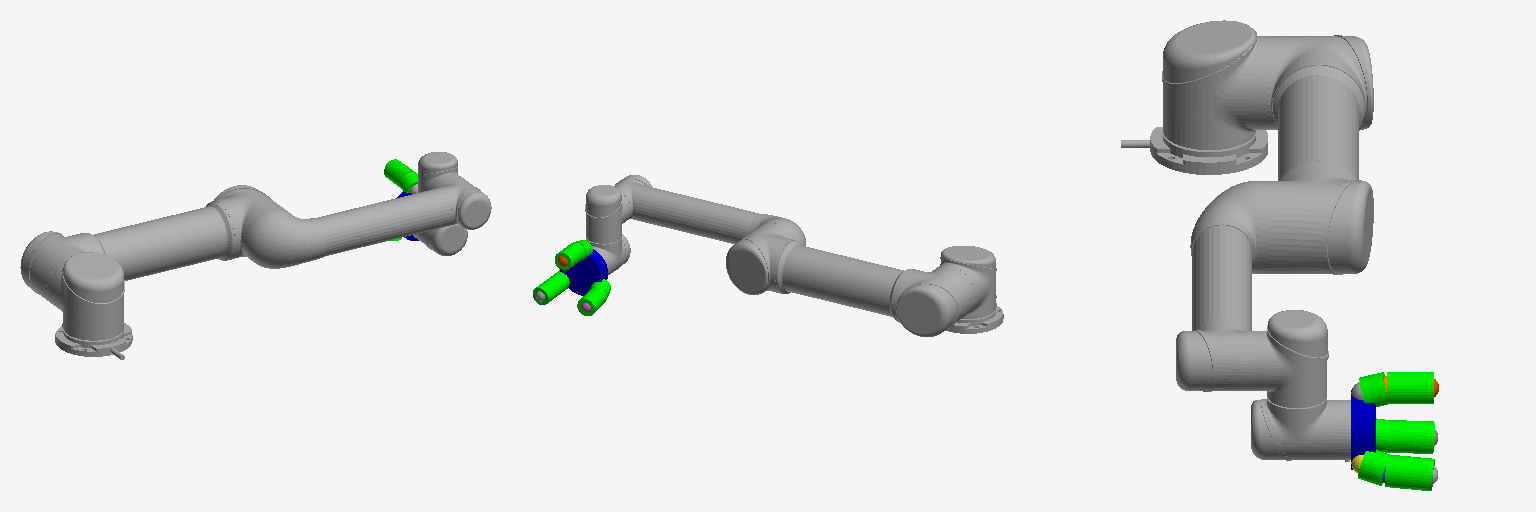
The robot description file, URDF, robot "ur5_3f2j":
<?xml version='1.0' encoding='UTF-8'?>
<robot name="ur5_3f2j">
  <link name="base_link">
    <inertial>
      <origin xyz="0.0 0.0 0.0" rpy="0.0 0.0 0.0"/>
      <mass value="4.0"/>
      <inertia ixx="0.00443333156" ixy="0.0" ixz="0.0" iyy="0.00443333156" iyz="0.0" izz="0.0072"/>
    </inertial>
    <visual>
      <geometry>
        <mesh filename="meshes/ur5/visual/base.obj"/>
      </geometry>
      <material name="LightGrey"/>
      <origin xyz="0.0 0.0 0.0" rpy="0.0 -0.0 0.0"/>
    </visual>
    <collision>
      <geometry>
        <mesh filename="meshes/ur5/collision/base.stl"/>
      </geometry>
      <origin xyz="0.0 0.0 0.0" rpy="0.0 -0.0 0.0"/>
    </collision>
  </link>
  <link name="shoulder_link">
    <inertial>
      <origin xyz="0.0 0.0 0.0" rpy="0.0 0.0 0.0"/>
      <mass value="3.7"/>
      <inertia ixx="0.010267495893" ixy="0.0" ixz="0.0" iyy="0.010267495893" iyz="0.0" izz="0.00666"/>
    </inertial>
    <visual>
      <geometry>
        <mesh filename="meshes/ur5/visual/shoulder.obj"/>
      </geometry>
      <material name="LightGrey"/>
      <origin xyz="0.0 0.0 0.0" rpy="0.0 -0.0 0.0"/>
    </visual>
    <collision>
      <geometry>
        <mesh filename="meshes/ur5/collision/shoulder.stl"/>
      </geometry>
      <origin xyz="0.0 0.0 0.0" rpy="0.0 -0.0 0.0"/>
    </collision>
  </link>
  <link name="upper_arm_link">
    <inertial>
      <origin xyz="0.0 0.0 0.28" rpy="0.0 0.0 0.0"/>
      <mass value="8.393"/>
      <inertia ixx="0.22689067591" ixy="0.0" ixz="0.0" iyy="0.22689067591" iyz="0.0" izz="0.0151074"/>
    </inertial>
    <visual>
      <geometry>
        <mesh filename="meshes/ur5/visual/upperarm.obj"/>
      </geometry>
      <material name="LightGrey"/>
      <origin xyz="0.0 0.0 0.0" rpy="0.0 -0.0 0.0"/>
    </visual>
    <collision>
      <geometry>
        <mesh filename="meshes/ur5/collision/upperarm.stl"/>
      </geometry>
      <origin xyz="0.0 0.0 0.0" rpy="0.0 -0.0 0.0"/>
    </collision>
  </link>
  <link name="forearm_link">
    <inertial>
      <origin xyz="0.0 0.0 0.25" rpy="0.0 0.0 0.0"/>
      <mass value="2.275"/>
      <inertia ixx="0.049443313556" ixy="0.0" ixz="0.0" iyy="0.049443313556" iyz="0.0" izz="0.004095"/>
    </inertial>
    <visual>
      <geometry>
        <mesh filename="meshes/ur5/visual/forearm.obj"/>
      </geometry>
      <material name="LightGrey"/>
      <origin xyz="0.0 0.0 0.0" rpy="0.0 -0.0 0.0"/>
    </visual>
    <collision>
      <geometry>
        <mesh filename="meshes/ur5/collision/forearm.stl"/>
      </geometry>
      <origin xyz="0.0 0.0 0.0" rpy="0.0 -0.0 0.0"/>
    </collision>
  </link>
  <link name="wrist_1_link">
    <inertial>
      <origin xyz="0.0 0.0 0.0" rpy="0.0 0.0 0.0"/>
      <mass value="1.219"/>
      <inertia ixx="0.111172755531" ixy="0.0" ixz="0.0" iyy="0.111172755531" iyz="0.0" izz="0.21942"/>
    </inertial>
    <visual>
      <geometry>
        <mesh filename="meshes/ur5/visual/wrist1.obj"/>
      </geometry>
      <material name="LightGrey"/>
      <origin xyz="0.0 0.0 0.0" rpy="0.0 -0.0 0.0"/>
    </visual>
    <collision>
      <geometry>
        <mesh filename="meshes/ur5/collision/wrist1.stl"/>
      </geometry>
      <origin xyz="0.0 0.0 0.0" rpy="0.0 -0.0 0.0"/>
    </collision>
  </link>
  <link name="wrist_2_link">
    <inertial>
      <origin xyz="0.0 0.0 0.0" rpy="0.0 0.0 0.0"/>
      <mass value="1.219"/>
      <inertia ixx="0.111172755531" ixy="0.0" ixz="0.0" iyy="0.111172755531" iyz="0.0" izz="0.21942"/>
    </inertial>
    <visual>
      <geometry>
        <mesh filename="meshes/ur5/visual/wrist2.obj"/>
      </geometry>
      <material name="LightGrey"/>
      <origin xyz="0.0 0.0 0.0" rpy="0.0 -0.0 0.0"/>
    </visual>
    <collision>
      <geometry>
        <mesh filename="meshes/ur5/collision/wrist2.stl"/>
      </geometry>
      <origin xyz="0.0 0.0 0.0" rpy="0.0 -0.0 0.0"/>
    </collision>
  </link>
  <link name="wrist_3_link">
    <inertial>
      <origin xyz="0.0 0.0 0.0" rpy="0.0 0.0 0.0"/>
      <mass value="0.1879"/>
      <inertia ixx="0.0171364731454" ixy="0.0" ixz="0.0" iyy="0.0171364731454" iyz="0.0" izz="0.033822"/>
    </inertial>
    <visual>
      <geometry>
        <mesh filename="meshes/ur5/visual/wrist3.obj"/>
      </geometry>
      <material name="LightGrey"/>
      <origin xyz="0.0 0.0 0.0" rpy="0.0 -0.0 0.0"/>
    </visual>
    <collision>
      <geometry>
        <mesh filename="meshes/ur5/collision/wrist3.stl"/>
      </geometry>
      <origin xyz="0.0 0.0 0.0" rpy="0.0 -0.0 0.0"/>
    </collision>
  </link>
  <link name="ee_link">
    <inertial>
      <origin xyz="0.0 0.0 0.0" rpy="0.0 0.0 0.0"/>
      <mass value="0.0"/>
      <inertia ixx="0.0" ixy="0.0" ixz="0.0" iyy="0.0" iyz="0.0" izz="0.0"/>
    </inertial>
    <collision>
      <geometry>
        <box size="0.01 0.01 0.01"/>
      </geometry>
      <origin xyz="-0.01 0.0 0.0" rpy="0.0 0.0 0.0"/>
    </collision>
  </link>
  <link name="palm">
    <inertial>
      <origin xyz="0.0 0.0 0.0" rpy="0.0 -0.0 0.0"/>
      <mass value="1.0"/>
      <inertia ixx="1.0" ixy="0.0" ixz="0.0" iyy="1.0" iyz="0.0" izz="1.0"/>
    </inertial>
    <visual>
      <geometry>
        <cylinder radius="0.05" length="0.03"/>
      </geometry>
      <material name="blue"/>
      <origin xyz="0.0 0.0 0.0" rpy="0.0 -0.0 0.0"/>
    </visual>
    <collision>
      <geometry>
        <cylinder radius="0.05" length="0.03"/>
      </geometry>
      <origin xyz="0.0 0.0 0.0" rpy="0.0 0.0 0.0"/>
    </collision>
  </link>
  <link name="f11">
    <inertial>
      <origin xyz="0.0 0.0 0.0" rpy="0.0 -0.0 0.0"/>
      <mass value="1.0"/>
      <inertia ixx="1.0" ixy="0.0" ixz="0.0" iyy="1.0" iyz="0.0" izz="1.0"/>
    </inertial>
    <visual>
      <geometry>
        <cylinder radius="0.02041945892504144" length="0.03001944371894863"/>
      </geometry>
      <material name="green"/>
      <origin xyz="0.0 0.0 0.015009721859474315" rpy="0.0 -0.0 0.0"/>
    </visual>
    <collision>
      <geometry>
        <cylinder radius="0.02041945892504144" length="0.03001944371894863"/>
      </geometry>
      <origin xyz="0.0 0.0 0.025" rpy="0.0 0.0 0.0"/>
    </collision>
  </link>
  <link name="f12">
    <inertial>
      <origin xyz="0.0 0.0 0.0" rpy="0.0 -0.0 0.0"/>
      <mass value="1.0"/>
      <inertia ixx="1.0" ixy="0.0" ixz="0.0" iyy="1.0" iyz="0.0" izz="1.0"/>
    </inertial>
    <visual>
      <geometry>
        <cylinder radius="0.02041945892504144" length="0.05887117132597672"/>
      </geometry>
      <material name="green"/>
      <origin xyz="0.0 0.0 0.02943558566298836" rpy="0.0 -0.0 0.0"/>
    </visual>
    <collision>
      <geometry>
        <cylinder radius="0.02041945892504144" length="0.05887117132597672"/>
      </geometry>
      <origin xyz="0.0 0.0 0.025" rpy="0.0 0.0 0.0"/>
    </collision>
  </link>
  <link name="f21">
    <inertial>
      <origin xyz="0.0 0.0 0.0" rpy="0.0 -0.0 0.0"/>
      <mass value="1.0"/>
      <inertia ixx="1.0" ixy="0.0" ixz="0.0" iyy="1.0" iyz="0.0" izz="1.0"/>
    </inertial>
    <visual>
      <geometry>
        <cylinder radius="0.02041945892504144" length="0.03001944371894863"/>
      </geometry>
      <material name="green"/>
      <origin xyz="0.0 0.0 0.015009721859474315" rpy="0.0 -0.0 0.0"/>
    </visual>
    <collision>
      <geometry>
        <cylinder radius="0.02041945892504144" length="0.03001944371894863"/>
      </geometry>
      <origin xyz="0.0 0.0 0.025" rpy="0.0 0.0 0.0"/>
    </collision>
  </link>
  <link name="f22">
    <inertial>
      <origin xyz="0.0 0.0 0.0" rpy="0.0 -0.0 0.0"/>
      <mass value="1.0"/>
      <inertia ixx="1.0" ixy="0.0" ixz="0.0" iyy="1.0" iyz="0.0" izz="1.0"/>
    </inertial>
    <visual>
      <geometry>
        <cylinder radius="0.02041945892504144" length="0.05887117132597672"/>
      </geometry>
      <material name="green"/>
      <origin xyz="0.0 0.0 0.02943558566298836" rpy="0.0 -0.0 0.0"/>
    </visual>
    <collision>
      <geometry>
        <cylinder radius="0.02041945892504144" length="0.05887117132597672"/>
      </geometry>
      <origin xyz="0.0 0.0 0.025" rpy="0.0 0.0 0.0"/>
    </collision>
  </link>
  <link name="f31">
    <inertial>
      <origin xyz="0.0 0.0 0.0" rpy="0.0 -0.0 0.0"/>
      <mass value="1.0"/>
      <inertia ixx="1.0" ixy="0.0" ixz="0.0" iyy="1.0" iyz="0.0" izz="1.0"/>
    </inertial>
    <visual>
      <geometry>
        <cylinder radius="0.02041945892504144" length="0.03001944371894863"/>
      </geometry>
      <material name="green"/>
      <origin xyz="0.0 0.0 0.015009721859474315" rpy="0.0 -0.0 0.0"/>
    </visual>
    <collision>
      <geometry>
        <cylinder radius="0.02041945892504144" length="0.03001944371894863"/>
      </geometry>
      <origin xyz="0.0 0.0 0.025" rpy="0.0 0.0 0.0"/>
    </collision>
  </link>
  <link name="f32">
    <inertial>
      <origin xyz="0.0 0.0 0.0" rpy="0.0 -0.0 0.0"/>
      <mass value="1.0"/>
      <inertia ixx="1.0" ixy="0.0" ixz="0.0" iyy="1.0" iyz="0.0" izz="1.0"/>
    </inertial>
    <visual>
      <geometry>
        <cylinder radius="0.02041945892504144" length="0.05887117132597672"/>
      </geometry>
      <material name="green"/>
      <origin xyz="0.0 0.0 0.02943558566298836" rpy="0.0 -0.0 0.0"/>
    </visual>
    <collision>
      <geometry>
        <cylinder radius="0.02041945892504144" length="0.05887117132597672"/>
      </geometry>
      <origin xyz="0.0 0.0 0.025" rpy="0.0 0.0 0.0"/>
    </collision>
  </link>
  <link name="f11_base">
    <inertial>
      <origin xyz="0.0 0.0 0.0" rpy="0.0 0.0 0.0"/>
      <mass value="0.01"/>
      <inertia ixx="0.0" ixy="0.0" ixz="0.0" iyy="0.0" iyz="0.0" izz="0.0"/>
    </inertial>
    <visual>
      <geometry>
        <sphere radius="0.015"/>
      </geometry>
      <origin xyz="0.0 0.0 0.0" rpy="0.0 -0.0 0.0"/>
    </visual>
  </link>
  <link name="f12_slot">
    <inertial>
      <origin xyz="0.0 0.0 0.0" rpy="0.0 0.0 0.0"/>
      <mass value="0.01"/>
      <inertia ixx="0.0" ixy="0.0" ixz="0.0" iyy="0.0" iyz="0.0" izz="0.0"/>
    </inertial>
    <visual>
      <geometry>
        <sphere radius="0.015"/>
      </geometry>
      <origin xyz="0.0 0.0 0.0" rpy="0.0 -0.0 0.0"/>
    </visual>
  </link>
  <link name="f21_base">
    <inertial>
      <origin xyz="0.0 0.0 0.0" rpy="0.0 0.0 0.0"/>
      <mass value="0.01"/>
      <inertia ixx="0.0" ixy="0.0" ixz="0.0" iyy="0.0" iyz="0.0" izz="0.0"/>
    </inertial>
    <visual>
      <geometry>
        <sphere radius="0.015"/>
      </geometry>
      <origin xyz="0.0 0.0 0.0" rpy="0.0 -0.0 0.0"/>
    </visual>
  </link>
  <link name="f22_slot">
    <inertial>
      <origin xyz="0.0 0.0 0.0" rpy="0.0 0.0 0.0"/>
      <mass value="0.01"/>
      <inertia ixx="0.0" ixy="0.0" ixz="0.0" iyy="0.0" iyz="0.0" izz="0.0"/>
    </inertial>
    <visual>
      <geometry>
        <sphere radius="0.015"/>
      </geometry>
      <origin xyz="0.0 0.0 0.0" rpy="0.0 -0.0 0.0"/>
    </visual>
  </link>
  <link name="f31_base">
    <inertial>
      <origin xyz="0.0 0.0 0.0" rpy="0.0 0.0 0.0"/>
      <mass value="0.0"/>
      <inertia ixx="0.0" ixy="0.0" ixz="0.0" iyy="0.0" iyz="0.0" izz="0.0"/>
    </inertial>
    <visual>
      <geometry>
        <sphere radius="0.015"/>
      </geometry>
      <origin xyz="0.0 0.0 0.0" rpy="0.0 -0.0 0.0"/>
    </visual>
  </link>
  <link name="f32_slot">
    <inertial>
      <origin xyz="0.0 0.0 0.0" rpy="0.0 0.0 0.0"/>
      <mass value="0.0"/>
      <inertia ixx="0.0" ixy="0.0" ixz="0.0" iyy="0.0" iyz="0.0" izz="0.0"/>
    </inertial>
    <visual>
      <geometry>
        <sphere radius="0.015"/>
      </geometry>
      <origin xyz="0.0 0.0 0.0" rpy="0.0 -0.0 0.0"/>
    </visual>
  </link>
  <link name="f13_slot">
    <inertial>
      <origin xyz="0.0 0.0 0.0" rpy="0.0 0.0 0.0"/>
      <mass value="0.0"/>
      <inertia ixx="0.0" ixy="0.0" ixz="0.0" iyy="0.0" iyz="0.0" izz="0.0"/>
    </inertial>
    <visual>
      <geometry>
        <sphere radius="0.015"/>
      </geometry>
      <origin xyz="0.0 0.0 0.0" rpy="0.0 -0.0 0.0"/>
    </visual>
  </link>
  <link name="f23_slot">
    <inertial>
      <origin xyz="0.0 0.0 0.0" rpy="0.0 0.0 0.0"/>
      <mass value="0.0"/>
      <inertia ixx="0.0" ixy="0.0" ixz="0.0" iyy="0.0" iyz="0.0" izz="0.0"/>
    </inertial>
    <visual>
      <geometry>
        <sphere radius="0.015"/>
      </geometry>
      <origin xyz="0.0 0.0 0.0" rpy="0.0 -0.0 0.0"/>
    </visual>
  </link>
  <link name="f33_slot">
    <inertial>
      <origin xyz="0.0 0.0 0.0" rpy="0.0 0.0 0.0"/>
      <mass value="0.0"/>
      <inertia ixx="0.0" ixy="0.0" ixz="0.0" iyy="0.0" iyz="0.0" izz="0.0"/>
    </inertial>
    <visual>
      <geometry>
        <sphere radius="0.015"/>
      </geometry>
      <origin xyz="0.0 0.0 0.0" rpy="0.0 -0.0 0.0"/>
    </visual>
  </link>
  <joint name="shoulder_pan_joint" type="revolute">
    <dynamics damping="0.0" friction="0.0"/>
    <limit effort="150.0" velocity="3.15" lower="-3.14159265359" upper="3.14159265359"/>
    <parent link="base_link"/>
    <child link="shoulder_link"/>
    <axis xyz="0. 0. 1."/>
    <origin xyz="0.0 0.0 0.089159" rpy="0.0 0.0 0.0"/>
  </joint>
  <joint name="shoulder_lift_joint" type="revolute">
    <dynamics damping="0.0" friction="0.0"/>
    <limit effort="150.0" velocity="3.15" lower="-3.14159265359" upper="3.14159265359"/>
    <parent link="shoulder_link"/>
    <child link="upper_arm_link"/>
    <axis xyz="0. 1. 0."/>
    <origin xyz="0.0 0.13585 0.0" rpy="0.0 1.5707963267948966 0.0"/>
  </joint>
  <joint name="elbow_joint" type="revolute">
    <dynamics damping="0.0" friction="0.0"/>
    <limit effort="150.0" velocity="3.15" lower="-3.14159265359" upper="3.14159265359"/>
    <parent link="upper_arm_link"/>
    <child link="forearm_link"/>
    <axis xyz="0. 1. 0."/>
    <origin xyz="0.0 -0.1197 0.425" rpy="0.0 0.0 0.0"/>
  </joint>
  <joint name="wrist_1_joint" type="revolute">
    <dynamics damping="0.0" friction="0.0"/>
    <limit effort="28.0" velocity="3.2" lower="-6.28318530718" upper="6.28318530718"/>
    <parent link="forearm_link"/>
    <child link="wrist_1_link"/>
    <axis xyz="0. 1. 0."/>
    <origin xyz="0.0 0.0 0.39225" rpy="0.0 1.5707963267948966 0.0"/>
  </joint>
  <joint name="wrist_2_joint" type="revolute">
    <dynamics damping="0.0" friction="0.0"/>
    <limit effort="28.0" velocity="3.2" lower="-6.28318530718" upper="6.28318530718"/>
    <parent link="wrist_1_link"/>
    <child link="wrist_2_link"/>
    <axis xyz="0. 0. 1."/>
    <origin xyz="0.0 0.093 0.0" rpy="0.0 0.0 0.0"/>
  </joint>
  <joint name="wrist_3_joint" type="revolute">
    <dynamics damping="0.0" friction="0.0"/>
    <limit effort="28.0" velocity="3.2" lower="-6.28318530718" upper="6.28318530718"/>
    <parent link="wrist_2_link"/>
    <child link="wrist_3_link"/>
    <axis xyz="0. 1. 0."/>
    <origin xyz="0.0 0.0 0.09465" rpy="0.0 0.0 0.0"/>
  </joint>
  <joint name="ee_fixed_joint" type="fixed">
    <parent link="wrist_3_link"/>
    <child link="ee_link"/>
    <axis xyz="1. 0. 0."/>
    <origin xyz="0.0 0.0823 0.0" rpy="0.0 0.0 1.57079632679"/>
  </joint>
  <joint name="palm_ee_joint" type="fixed">
    <parent link="ee_link"/>
    <child link="palm"/>
    <axis xyz="1. 0. 0."/>
    <origin xyz="0.0 0.0 0.0" rpy="3.14 1.5699999999999876 3.14"/>
  </joint>
  <joint name="f11_joint" type="revolute">
    <dynamics damping="100.0" friction="1.0"/>
    <limit effort="30.0" velocity="2.0" lower="-0.4" upper="0.25"/>
    <parent link="f11_base"/>
    <child link="f11"/>
    <axis xyz="0. 1. 0."/>
    <origin xyz="0.0 0.0 0.0" rpy="0.0 0.25 0.0"/>
  </joint>
  <joint name="f12_joint" type="revolute">
    <dynamics damping="100.0" friction="1.0"/>
    <limit effort="30.0" velocity="2.0" lower="-0.4" upper="0.0"/>
    <mimic joint="f11_joint" multiplier="2.0" offset="-0.25"/>
    <parent link="f12_slot"/>
    <child link="f12"/>
    <axis xyz="0. 1. 0."/>
    <origin xyz="0.0 0.0 0.0" rpy="0.0 -0.0 0.0"/>
  </joint>
  <joint name="f21_joint" type="revolute">
    <dynamics damping="100.0" friction="1.0"/>
    <limit effort="30.0" velocity="2.0" lower="-0.4" upper="0.25"/>
    <parent link="f21_base"/>
    <child link="f21"/>
    <axis xyz=" 0.70710678 -0.70710678  0.        "/>
    <origin xyz="0.0 0.0 0.0" rpy="0.25 -0.25 0.0"/>
  </joint>
  <joint name="f22_joint" type="revolute">
    <dynamics damping="100.0" friction="1.0"/>
    <limit effort="30.0" velocity="2.0" lower="-0.4" upper="0.0"/>
    <mimic joint="f21_joint" multiplier="1.0" offset="-0.25"/>
    <parent link="f22_slot"/>
    <child link="f22"/>
    <axis xyz=" 0.70710678 -0.70710678  0.        "/>
    <origin xyz="0.0 0.0 0.0" rpy="0.0 -0.0 0.0"/>
  </joint>
  <joint name="f31_joint" type="revolute">
    <dynamics damping="100.0" friction="1.0"/>
    <limit effort="30.0" velocity="2.0" lower="-0.4" upper="0.25"/>
    <parent link="f31_base"/>
    <child link="f31"/>
    <axis xyz="-0.70710678 -0.70710678  0.        "/>
    <origin xyz="0.0 0.0 0.0" rpy="-0.25 -0.25 0.0"/>
  </joint>
  <joint name="f32_joint" type="revolute">
    <dynamics damping="100.0" friction="1.0"/>
    <limit effort="30.0" velocity="2.0" lower="-0.4" upper="0.0"/>
    <mimic joint="f31_joint" multiplier="1.0" offset="-0.25"/>
    <parent link="f32_slot"/>
    <child link="f32"/>
    <axis xyz="-0.70710678 -0.70710678  0.        "/>
    <origin xyz="0.0 0.0 0.0" rpy="0.0 0.0 0.0"/>
  </joint>
  <joint name="f11_base_joint" type="fixed">
    <parent link="palm"/>
    <child link="f11_base"/>
    <axis xyz="1. 0. 0."/>
    <origin xyz="0.05 0.0 0.0" rpy="0.0 0.0 0.0"/>
  </joint>
  <joint name="f12_slot_joint" type="fixed">
    <parent link="f11"/>
    <child link="f12_slot"/>
    <axis xyz="1. 0. 0."/>
    <origin xyz="0.0 0.0 0.03001944371894863" rpy="0.0 0.0 0.0"/>
  </joint>
  <joint name="f21_base_joint" type="fixed">
    <parent link="palm"/>
    <child link="f21_base"/>
    <axis xyz="1. 0. 0."/>
    <origin xyz="-0.025 -0.043301270189222 0.0" rpy="0.0 0.0 0.0"/>
  </joint>
  <joint name="f22_slot_joint" type="fixed">
    <parent link="f21"/>
    <child link="f22_slot"/>
    <axis xyz="1. 0. 0."/>
    <origin xyz="0.0 0.0 0.03001944371894863" rpy="0.0 0.0 0.0"/>
  </joint>
  <joint name="f31_base_joint" type="fixed">
    <parent link="palm"/>
    <child link="f31_base"/>
    <axis xyz="1. 0. 0."/>
    <origin xyz="-0.025 0.043301270189222 0.0" rpy="0.0 0.0 0.0"/>
  </joint>
  <joint name="f32_slot_joint" type="fixed">
    <parent link="f31"/>
    <child link="f32_slot"/>
    <axis xyz="1. 0. 0."/>
    <origin xyz="0.0 0.0 0.03001944371894863" rpy="0.0 0.0 0.0"/>
  </joint>
  <joint name="f13_slot_joint" type="fixed">
    <parent link="f12"/>
    <child link="f13_slot"/>
    <axis xyz="1. 0. 0."/>
    <origin xyz="0.0 0.0 0.05" rpy="0.0 0.0 0.0"/>
  </joint>
  <joint name="f23_slot_joint" type="fixed">
    <parent link="f22"/>
    <child link="f23_slot"/>
    <axis xyz="1. 0. 0."/>
    <origin xyz="0.0 0.0 0.05" rpy="0.0 0.0 0.0"/>
  </joint>
  <joint name="f33_slot_joint" type="fixed">
    <parent link="f32"/>
    <child link="f33_slot"/>
    <axis xyz="1. 0. 0."/>
    <origin xyz="0.0 0.0 0.05" rpy="0.0 0.0 0.0"/>
  </joint>
  <material name="LightGrey">
    <color rgba="0.7 0.7 0.7 1. "/>
  </material>
  <material name="blue">
    <color rgba="0.  0.  0.8 1. "/>
  </material>
  <material name="green">
    <color rgba="0. 1. 0. 1."/>
  </material>
</robot>

--- What the picture shows (computed from the rendered views, not written in the file) ---
Views: 3 orthographic renders of the robot side by side, from view 1: azimuth 30°, elevation 25°; view 2: azimuth 150°, elevation 25°; view 3: azimuth 270°, elevation 25°.
Model ur5_3f2j with 24 links and 23 joints (12 revolute, 11 fixed), rooted at base_link, posed every joint at zero.
Links seen in each view (by area): view 1: upper_arm_link, forearm_link, shoulder_link, base_link, wrist_1_link, wrist_2_link; view 2: upper_arm_link, forearm_link, shoulder_link, wrist_1_link, palm, base_link, wrist_2_link; view 3: upper_arm_link, forearm_link, shoulder_link, wrist_1_link, wrist_2_link, base_link, f32, f22, f12, palm, wrist_3_link, f31 (+1 smaller).
Link boxes in pixels (x1=…): upper_arm_link: x1=20, y1=185, x2=283, y2=305; forearm_link: x1=243, y1=175, x2=491, y2=268; shoulder_link: x1=49, y1=252, x2=124, y2=340; base_link: x1=55, y1=323, x2=132, y2=359; wrist_1_link: x1=418, y1=152, x2=458, y2=192; wrist_2_link: x1=413, y1=224, x2=467, y2=255; upper_arm_link: x1=726, y1=223, x2=974, y2=336; forearm_link: x1=614, y1=175, x2=805, y2=245; shoulder_link: x1=937, y1=246, x2=996, y2=318; wrist_1_link: x1=585, y1=185, x2=629, y2=243; palm: x1=560, y1=249, x2=607, y2=295; base_link: x1=946, y1=295, x2=1003, y2=333; wrist_2_link: x1=586, y1=234, x2=630, y2=274; upper_arm_link: x1=1266, y1=35, x2=1373, y2=274; forearm_link: x1=1176, y1=181, x2=1265, y2=391; shoulder_link: x1=1162, y1=20, x2=1265, y2=149; wrist_1_link: x1=1261, y1=310, x2=1328, y2=407; wrist_2_link: x1=1251, y1=397, x2=1334, y2=460; base_link: x1=1121, y1=127, x2=1267, y2=174; f32: x1=1385, y1=455, x2=1434, y2=490; f22: x1=1385, y1=420, x2=1434, y2=453; f12: x1=1387, y1=372, x2=1433, y2=403; palm: x1=1351, y1=390, x2=1375, y2=469; wrist_3_link: x1=1335, y1=400, x2=1350, y2=461; f31: x1=1358, y1=450, x2=1389, y2=485.
Size in the robot's own frame: 0.9658 by 0.3955 by 0.22 metres.
Meshes: 7 distinct files referenced, 7 mesh visuals loaded (7 OBJ).